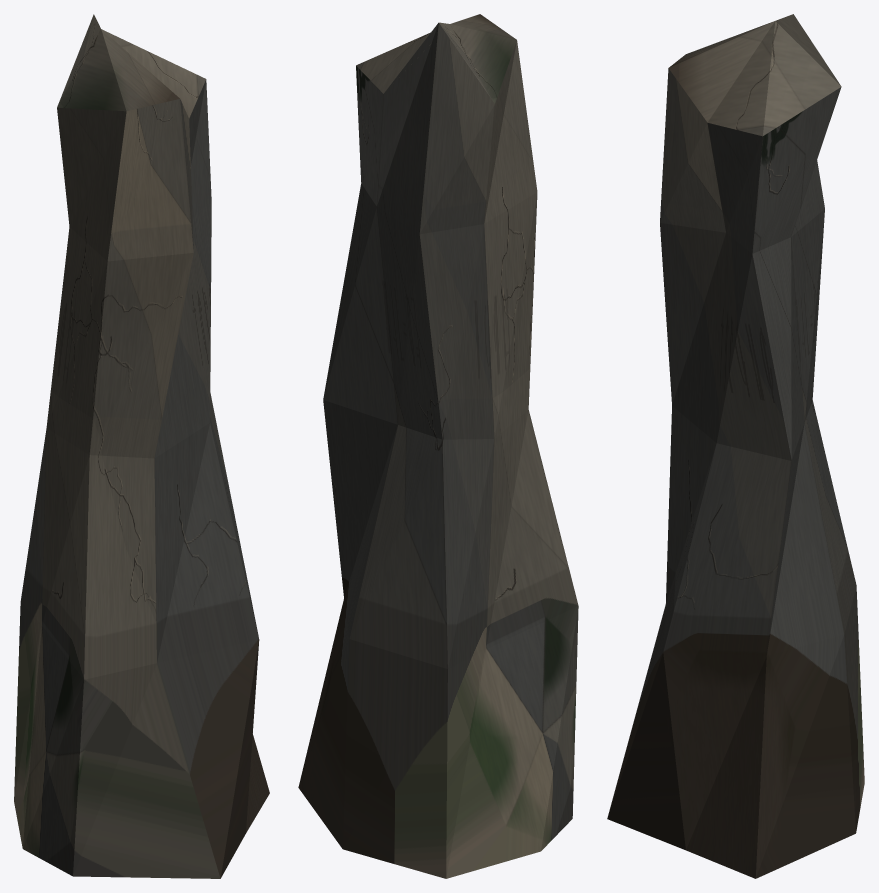
The model's file is monolito-02.glb.
The picture shows the model from 3 angles, left to right: view 1: azimuth 30°, elevation 25°; view 2: azimuth 150°, elevation 25°; view 3: azimuth 270°, elevation 25°; orthographic projection. The views are drawn at different scales.
Visible parts, largest first — view 1: monolito-02-np; view 2: monolito-02-np; view 3: monolito-02-np.
Part boxes in pixels (<box>): monolito-02-np: <box>14,14,269,878</box>; monolito-02-np: <box>298,14,578,878</box>; monolito-02-np: <box>607,14,864,878</box>.
Size of the model in its own units: 1.22 by 3.87 by 1.15.
Materials: 1 (1 with a texture image).
